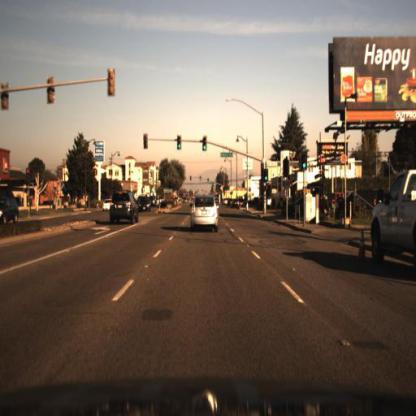car: (371, 165, 416, 268), (190, 194, 221, 235), (108, 191, 139, 228), (1, 197, 22, 228), (138, 194, 155, 213), (262, 193, 278, 209), (230, 197, 242, 211)
trafficLight: (143, 133, 151, 148)
trafficLight-Green: (302, 150, 309, 173), (176, 135, 184, 152), (203, 136, 208, 154), (264, 169, 269, 186)
